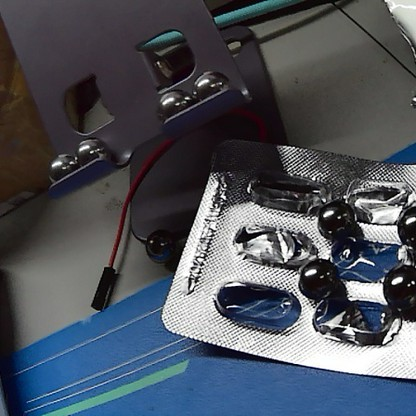ironball: (291, 251, 346, 309), (374, 255, 414, 311), (65, 129, 116, 172), (36, 141, 76, 192), (311, 195, 352, 233), (186, 73, 226, 107), (153, 91, 186, 122), (395, 204, 414, 242)
